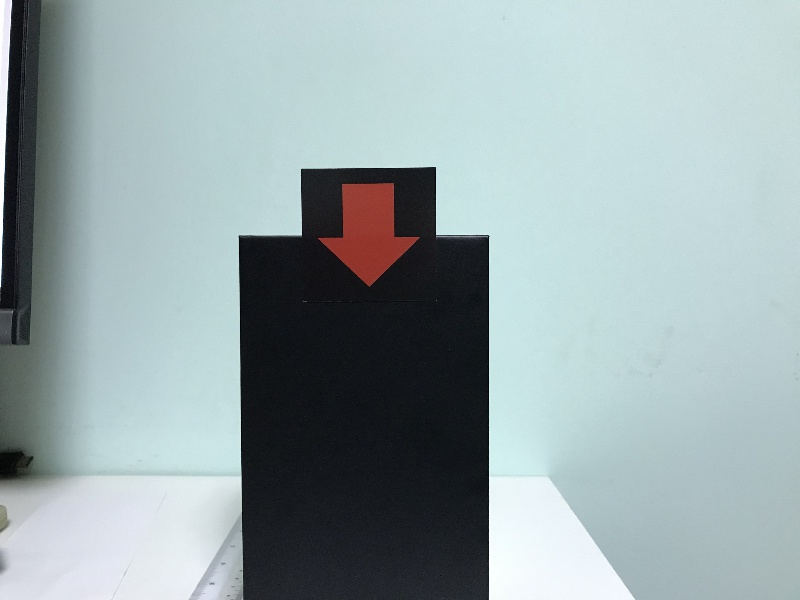DA-2: (304, 172, 435, 301)
